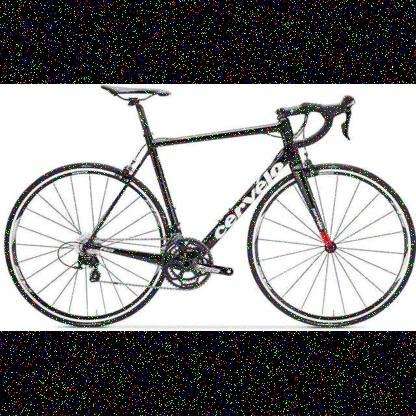Bicycle: (0, 87, 414, 329)
